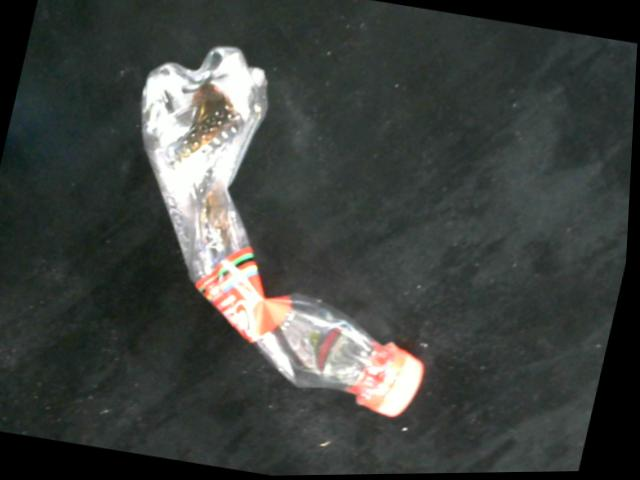bottle: (141, 45, 432, 421)
